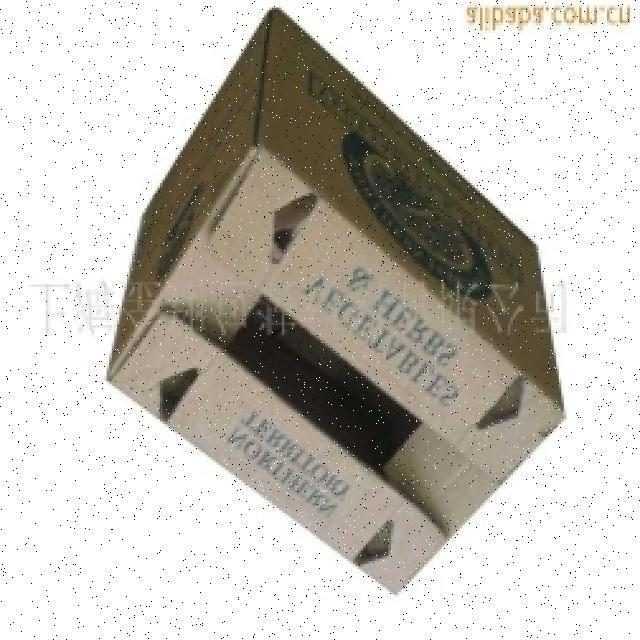box: (73, 0, 584, 579)
